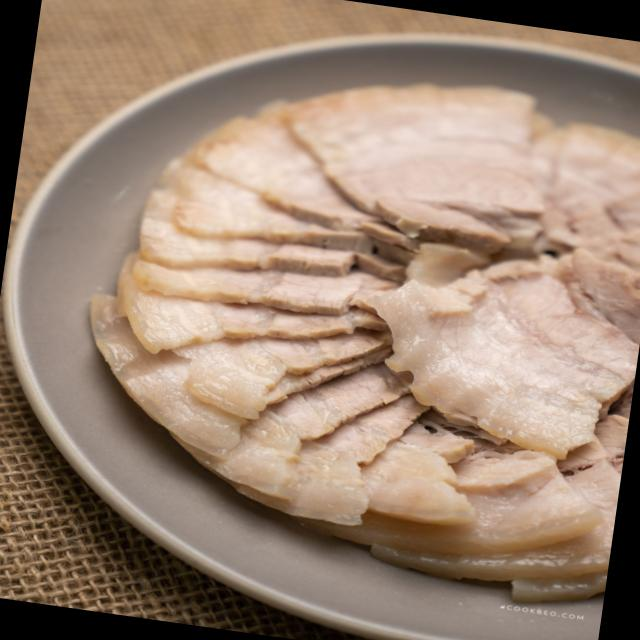thit luoc: (91, 85, 640, 490), (217, 396, 629, 602), (372, 270, 638, 459)
